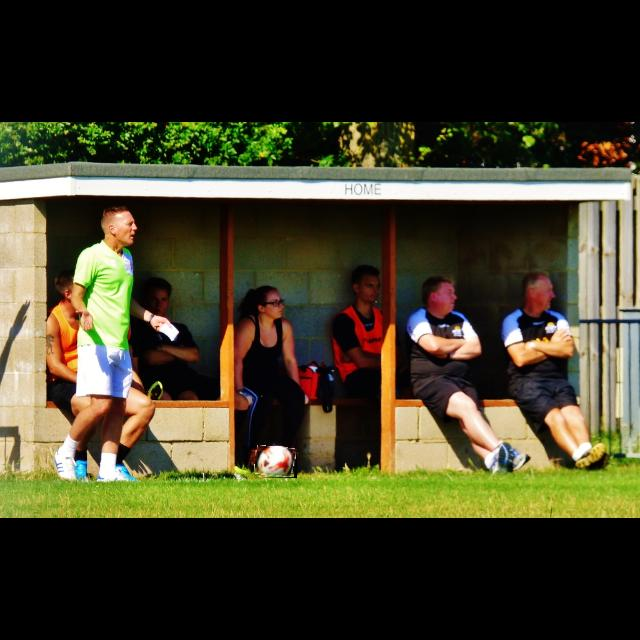Football: (255, 446, 297, 478)
